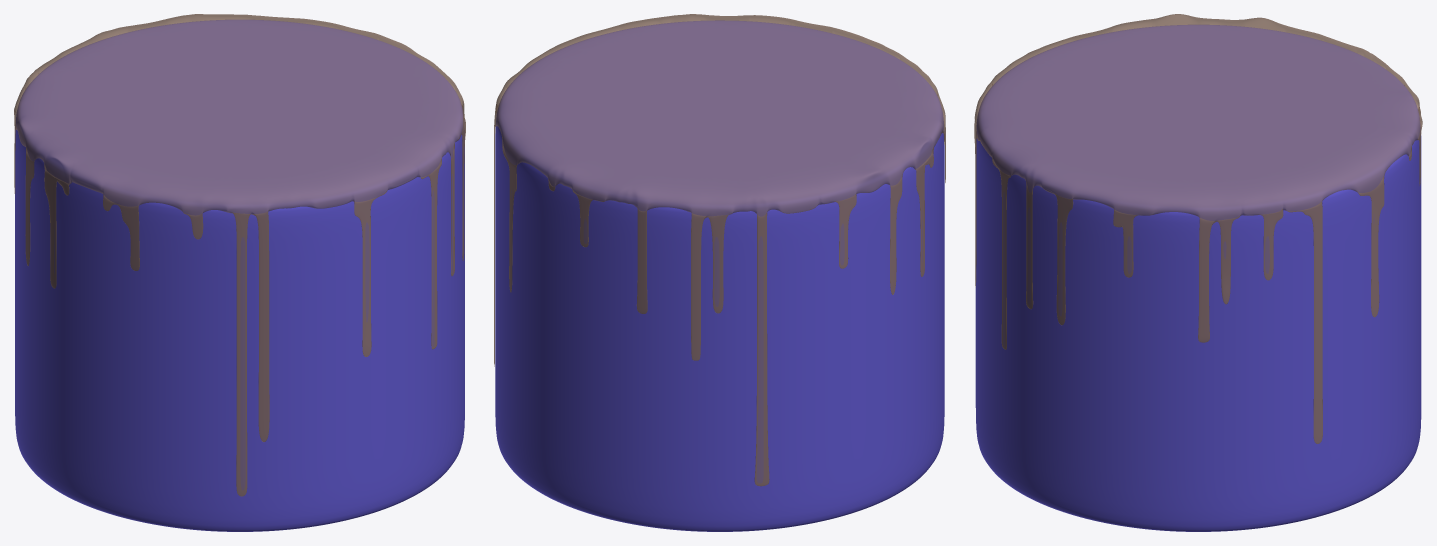
File: Cake_Layer_1_Purple_BrownDrip.glb
3 views of the same model, side by side, from view 1: azimuth 30°, elevation 25°; view 2: azimuth 150°, elevation 25°; view 3: azimuth 270°, elevation 25° (orthographic).
Visible parts, largest first — view 1: Circle, Circle.001; view 2: Circle, Circle.001; view 3: Circle, Circle.001.
Part boxes in pixels (x1,y1,x2,y2): Circle: (15, 20, 464, 531); Circle.001: (14, 14, 465, 496); Circle: (495, 20, 944, 531); Circle.001: (494, 14, 945, 486); Circle: (975, 25, 1421, 531); Circle.001: (974, 14, 1422, 443).
Size of the model in its own units: 0.1501 by 0.1237 by 0.1499.
